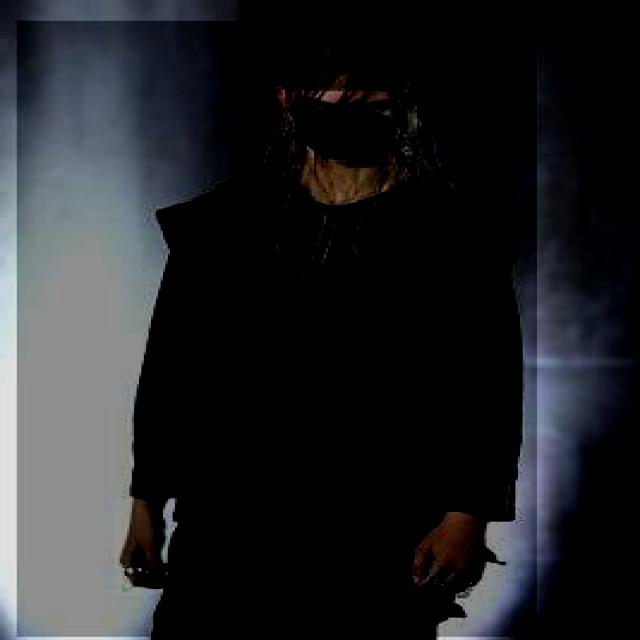face_mask: (288, 90, 402, 158)
hand_noglove: (391, 506, 494, 602), (110, 499, 180, 597)
head_nohelmet: (278, 30, 420, 91)
person: (14, 21, 537, 638)
